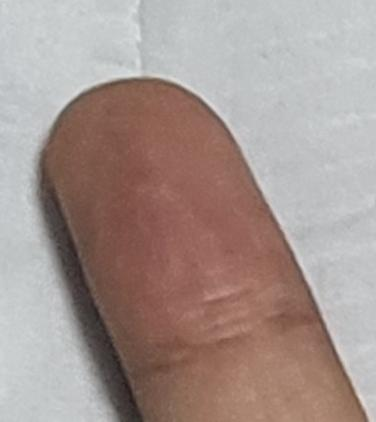Fingerprints: (42, 79, 320, 378)
